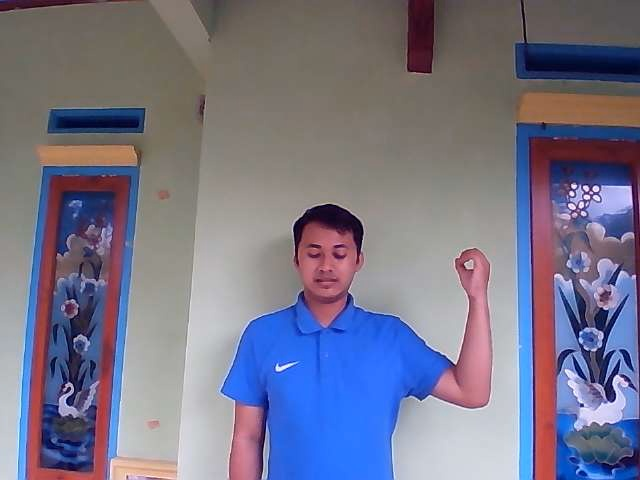O: (454, 247, 491, 298)
